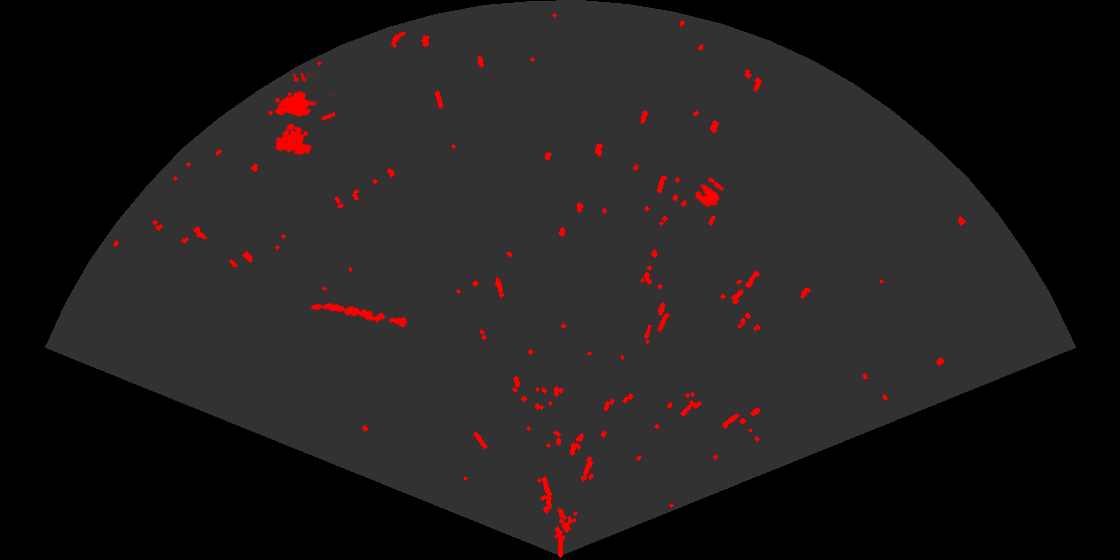ball: (694, 176, 726, 209)
cage: (266, 73, 335, 157)
chain: (309, 302, 410, 329)
